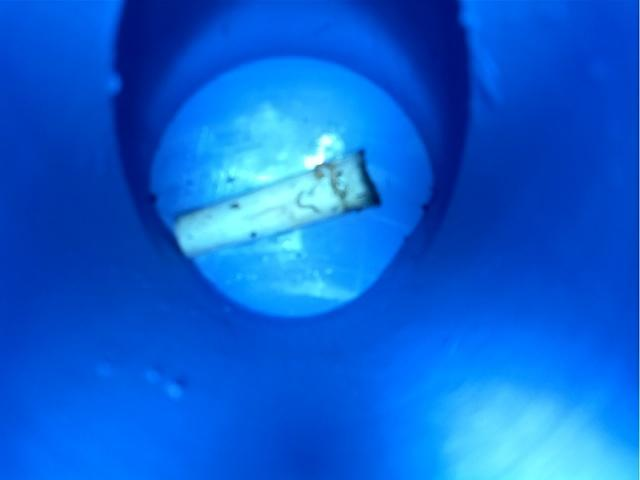megot: (168, 144, 387, 265)
